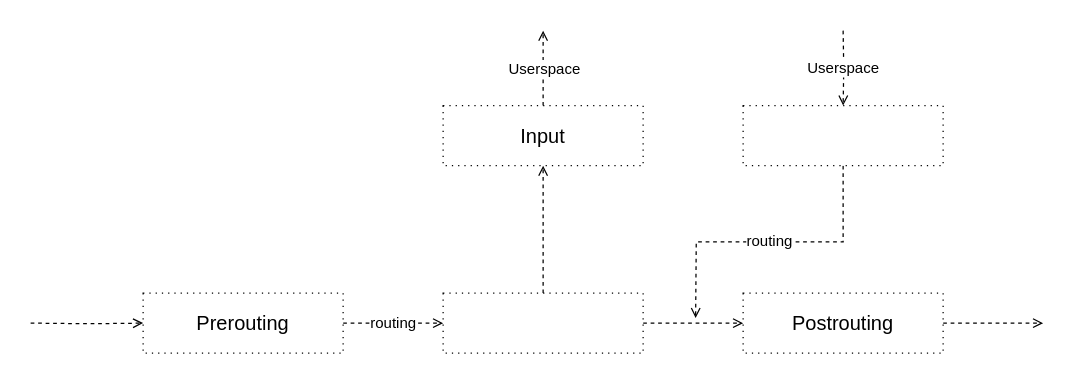
This 1075x375 diagram has some shape labels left out. The centre of each missing label's shape, as x and y in pixels:
Forward: the point at 542,322
Output: the point at 842,135
